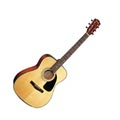guitar: (12, 18, 101, 109)
